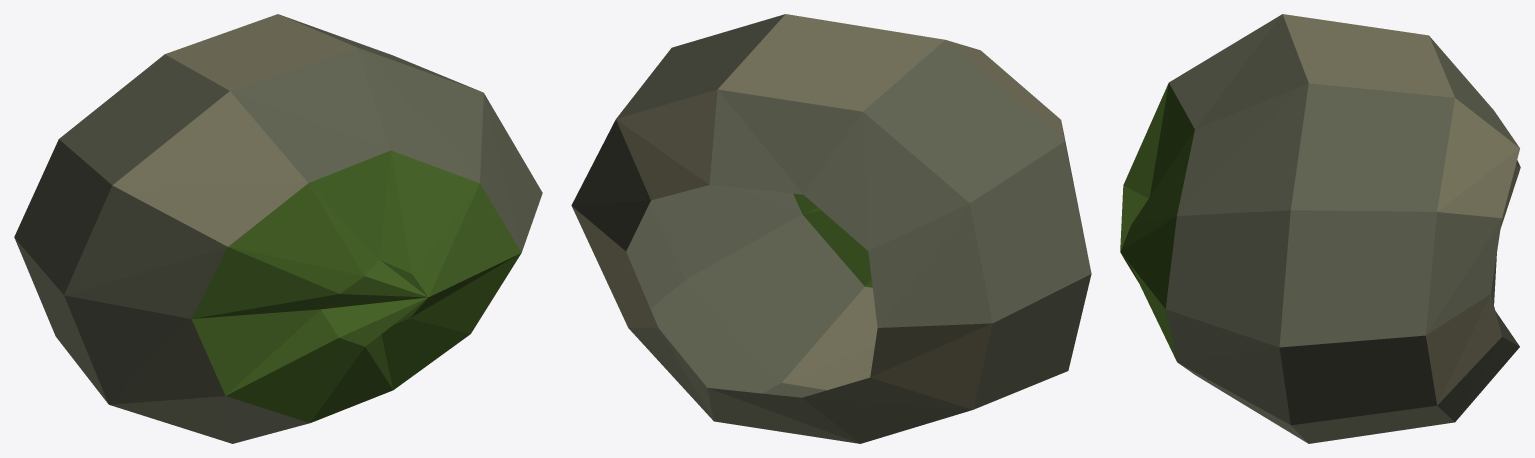
Rendered from SM_ForestCartoonRock_1.obj.
The picture shows the model from 3 angles, left to right: view 1: azimuth 30°, elevation 25°; view 2: azimuth 150°, elevation 25°; view 3: azimuth 270°, elevation 25°; orthographic projection. The views are drawn at different scales.
Parts seen in each view (by area): view 1: SM_ForestCartoonRock_1; view 2: SM_ForestCartoonRock_1; view 3: SM_ForestCartoonRock_1.
Part boxes in pixels (x1,y1,x2,y2): SM_ForestCartoonRock_1: (14, 14, 542, 443); SM_ForestCartoonRock_1: (571, 14, 1091, 443); SM_ForestCartoonRock_1: (1120, 14, 1520, 443).
Bounding box in the file's own units: 167 × 122 × 123.
